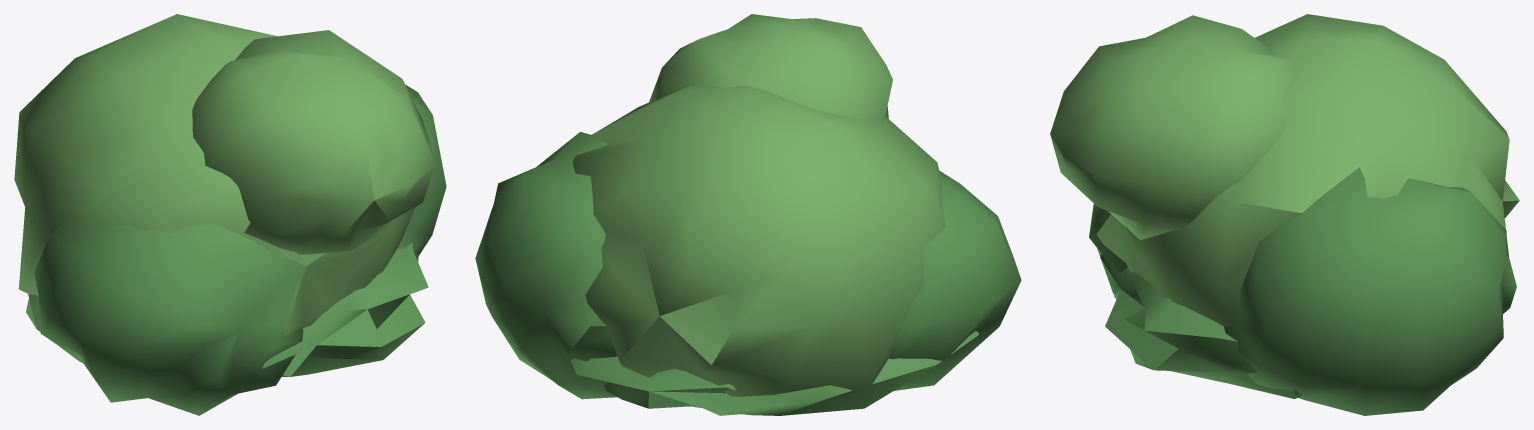
Rendered from prop_bush.glb.
3 renders of one model, left to right at view 1: azimuth 30°, elevation 25°; view 2: azimuth 150°, elevation 25°; view 3: azimuth 270°, elevation 25°, orthographic. The views are drawn at different scales.
Visible parts, largest first — view 1: prop_bush; view 2: prop_bush; view 3: prop_bush.
Boxes of the visible parts, <box> form: prop_bush: <box>14,14,446,415</box>; prop_bush: <box>475,14,1021,415</box>; prop_bush: <box>1050,14,1519,415</box>.
Size of the model in its own units: 1.83 by 1.33 by 1.66.
